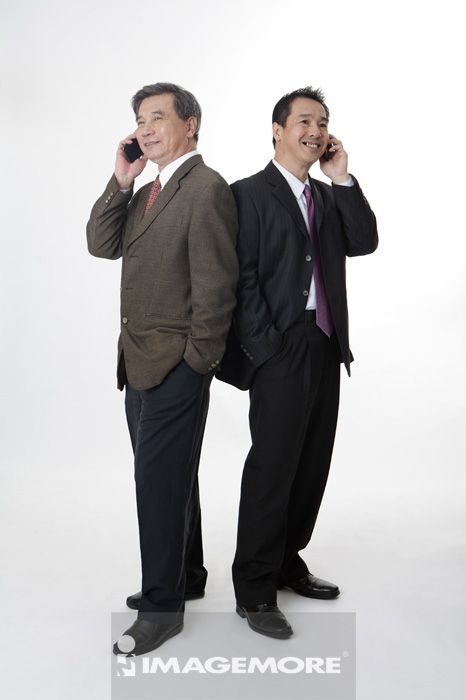talk: (291, 111, 351, 179), (112, 109, 178, 168)
